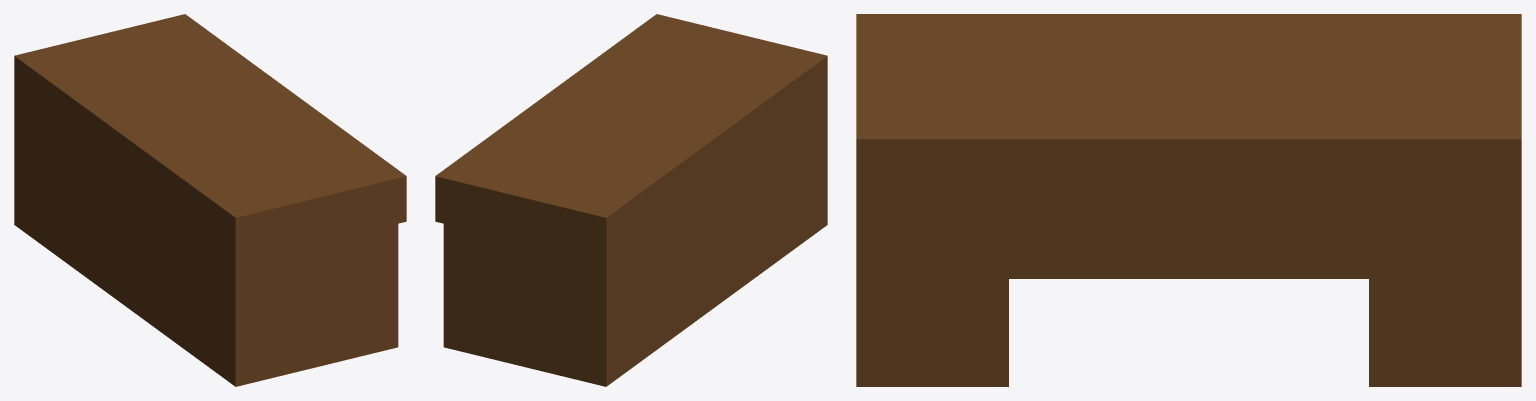
The model's file is Simple_Desk.fbx.
3 views of the same model, side by side, from view 1: azimuth 30°, elevation 25°; view 2: azimuth 150°, elevation 25°; view 3: azimuth 270°, elevation 25° (orthographic). The views are drawn at different scales.
Visible parts, largest first — view 1: Cube; view 2: Cube; view 3: Cube.
Part boxes in pixels (x1=…): Cube: x1=14, y1=14, x2=406, y2=386; Cube: x1=435, y1=14, x2=827, y2=386; Cube: x1=856, y1=14, x2=1521, y2=386.
Size of the model in its own units: 200 by 189 by 449.
